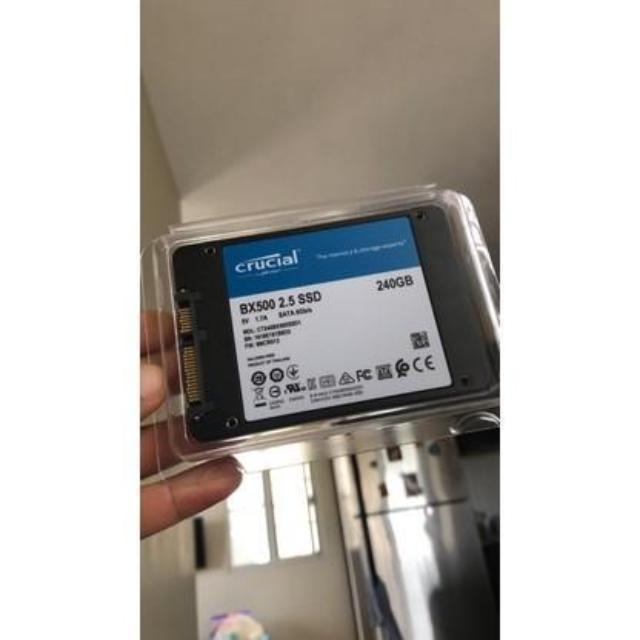DISK: (154, 199, 498, 447)
